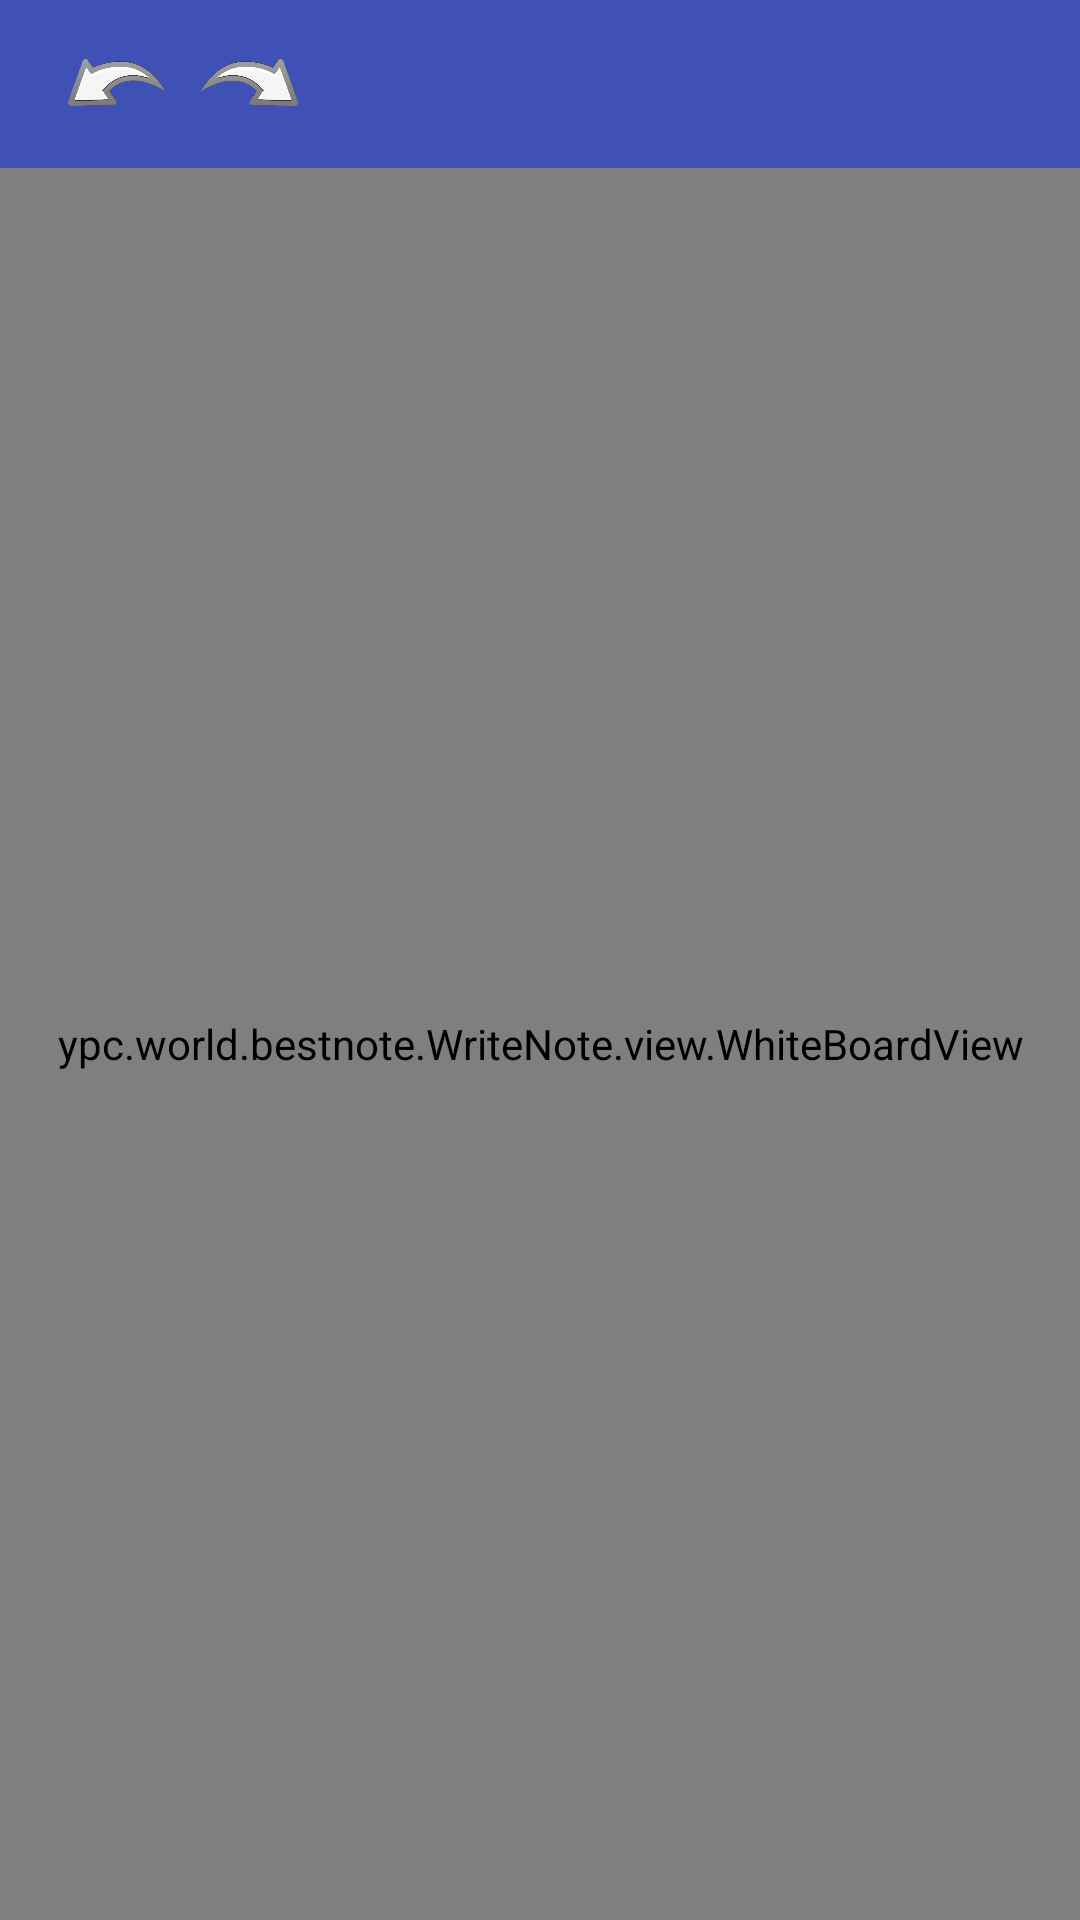

Icons on this 1080*1920 Android screen, each with the point to tap as (x=x, y=y):
redo: (x=249, y=82)
undo: (x=116, y=82)
